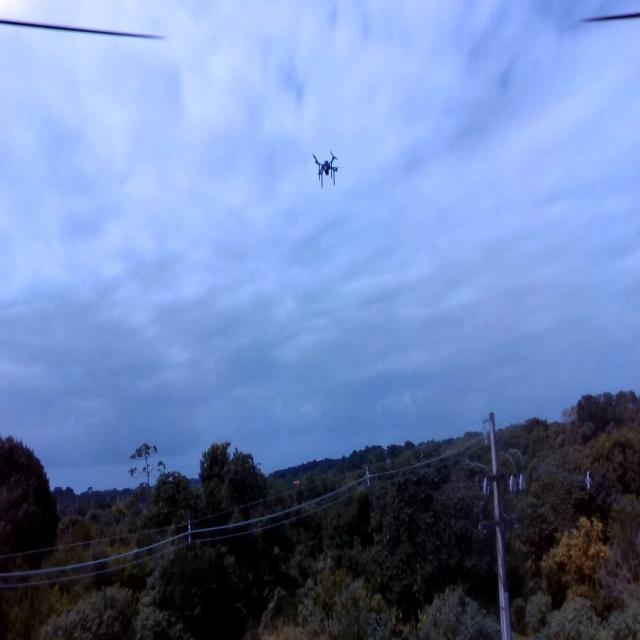-uav-: (306, 141, 347, 194)
